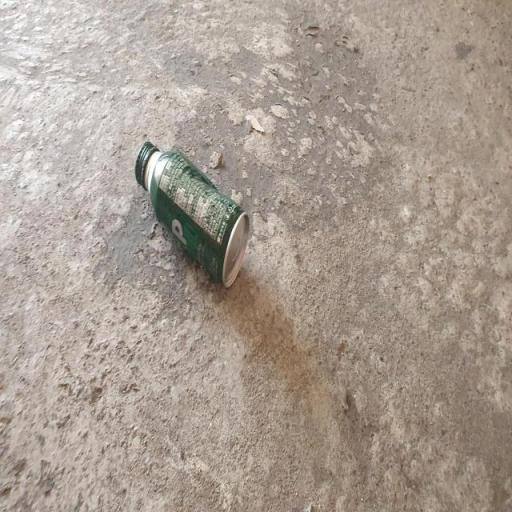metal: (130, 129, 254, 333)
